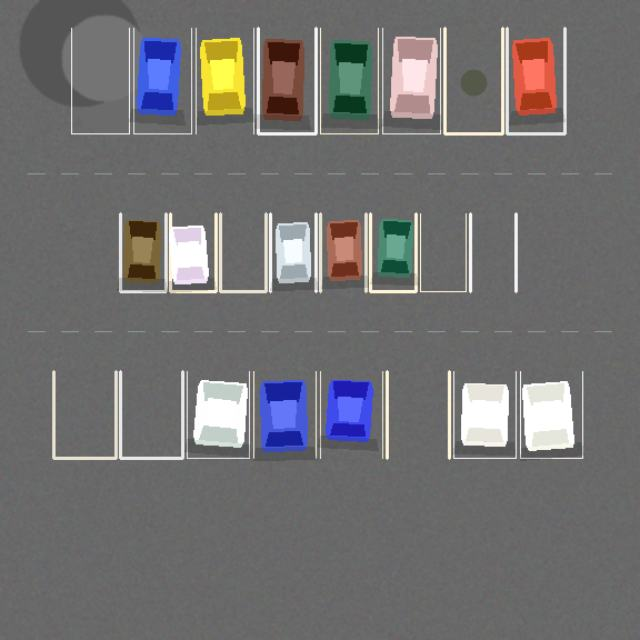space-empty: (71, 28, 129, 133), (444, 28, 502, 133), (53, 371, 116, 458), (120, 371, 182, 458), (387, 371, 449, 458), (220, 213, 266, 291), (420, 213, 466, 291), (470, 213, 516, 291)
space-occupied: (133, 28, 191, 133), (258, 28, 316, 133), (320, 28, 378, 133), (382, 28, 440, 133), (196, 28, 253, 133), (507, 28, 564, 133), (253, 371, 316, 458), (453, 371, 516, 458), (187, 371, 249, 458), (320, 371, 382, 458), (520, 371, 582, 458), (120, 213, 166, 291), (170, 213, 216, 291), (270, 213, 316, 291), (320, 213, 366, 291), (370, 213, 416, 291)
